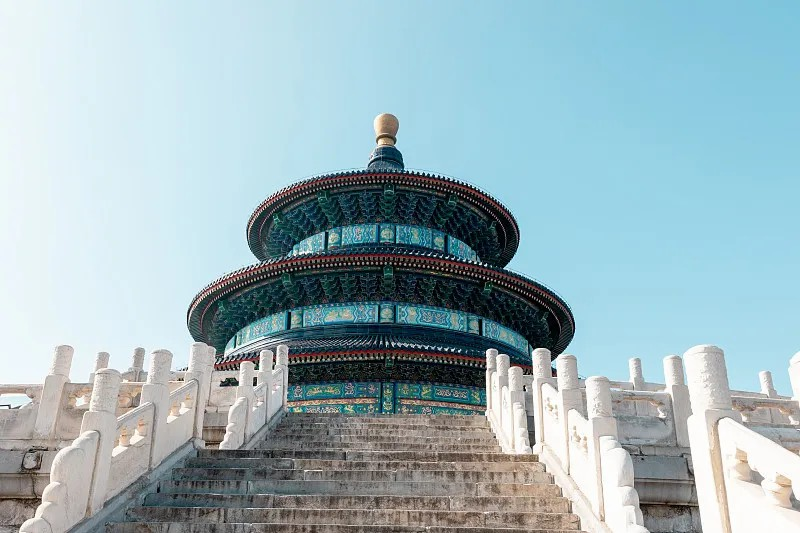Heaven: (184, 113, 574, 416)
